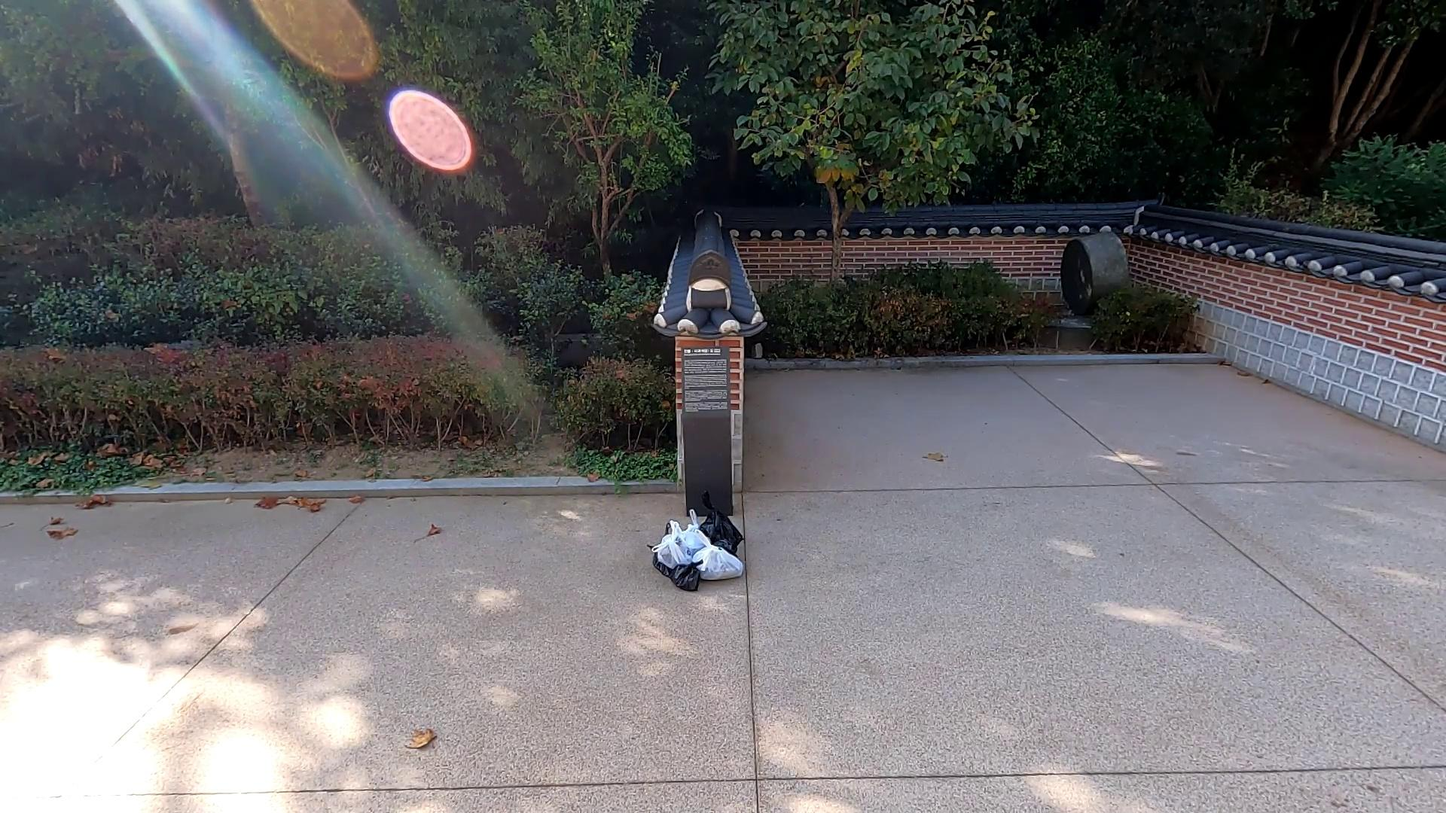trash: (688, 489, 747, 560), (689, 540, 751, 585), (670, 511, 715, 570), (653, 521, 692, 571), (663, 556, 707, 595)
